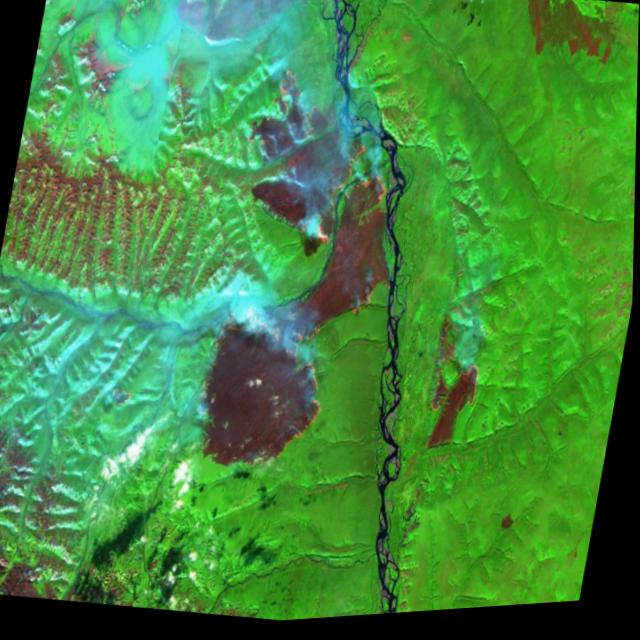fire: (243, 58, 409, 264), (189, 297, 343, 495), (427, 361, 486, 427)
